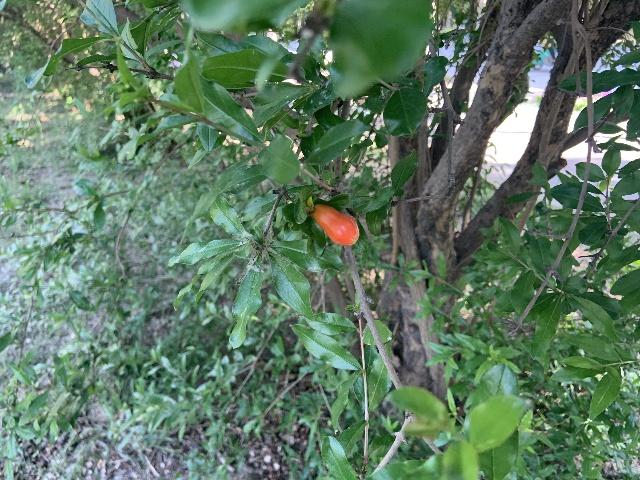bud: (310, 203, 359, 246)
